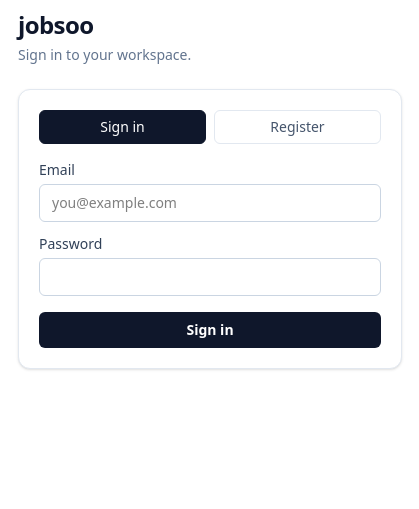
Test case: Auth screen › shows the duplicate-email conflict message, not a network error
The image size is (419, 509).
Click the button "Register" at (298, 127), box x1=214 y1=110 x2=381 y2=144
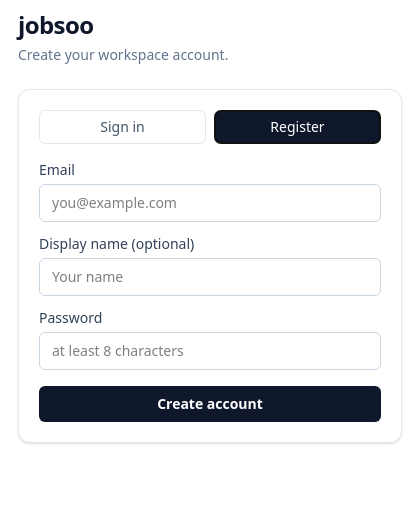
Type "dup@example.com" into the field labelled "Email" at (210, 203), box x1=39 y1=184 x2=381 y2=222
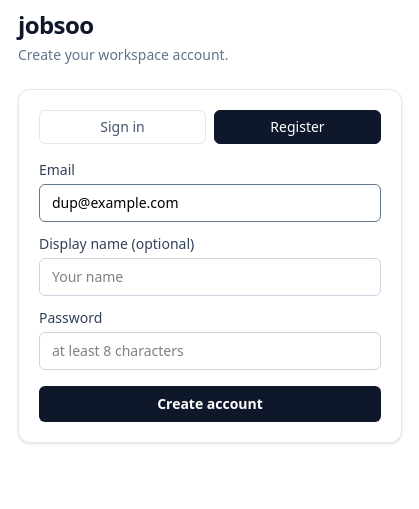
Type "valid-pass-123" into the password field labelled "Password" at (210, 351), box x1=39 y1=332 x2=381 y2=370
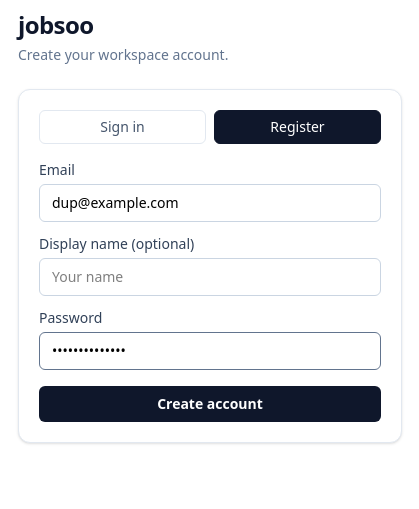
Click the button with test id "auth-submit" at (210, 404), box x1=39 y1=386 x2=381 y2=422
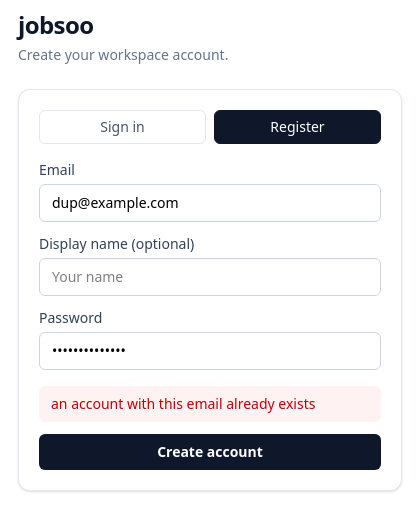
Check: the message reads "an account with this email already exists", box x1=51 y1=394 x2=316 y2=413
